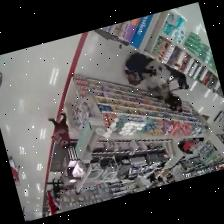person: (48, 112, 69, 148), (165, 65, 188, 90), (164, 92, 181, 111), (52, 178, 59, 203), (22, 206, 24, 218)
